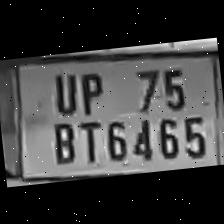4: (126, 113, 156, 161)
5: (177, 110, 209, 160), (156, 62, 188, 111)
6: (150, 111, 182, 160), (99, 115, 128, 161)
7: (127, 63, 162, 112)
B: (46, 116, 78, 165)
P: (73, 65, 106, 115)
T: (74, 117, 104, 164)
U: (46, 66, 79, 116)
